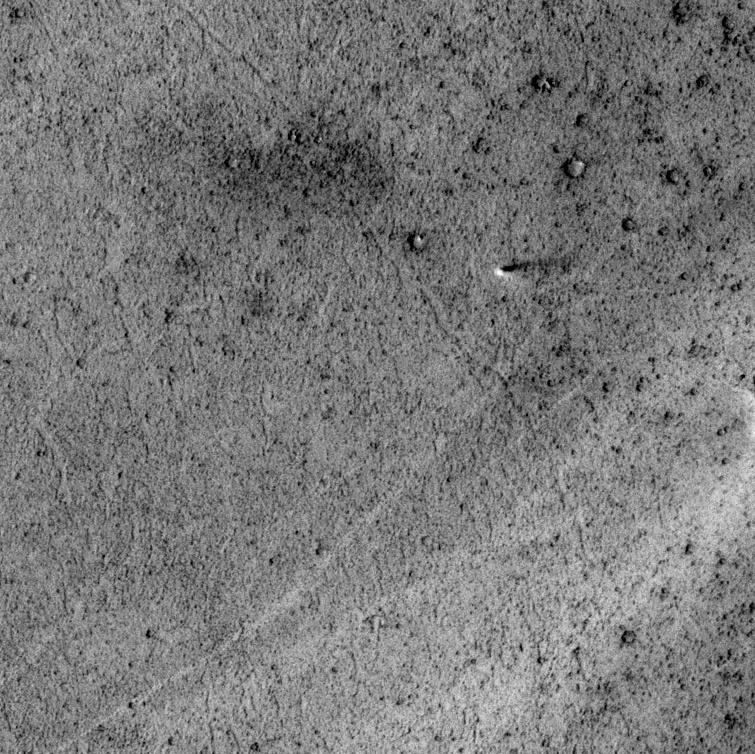dust_devil: (492, 256, 568, 276)
